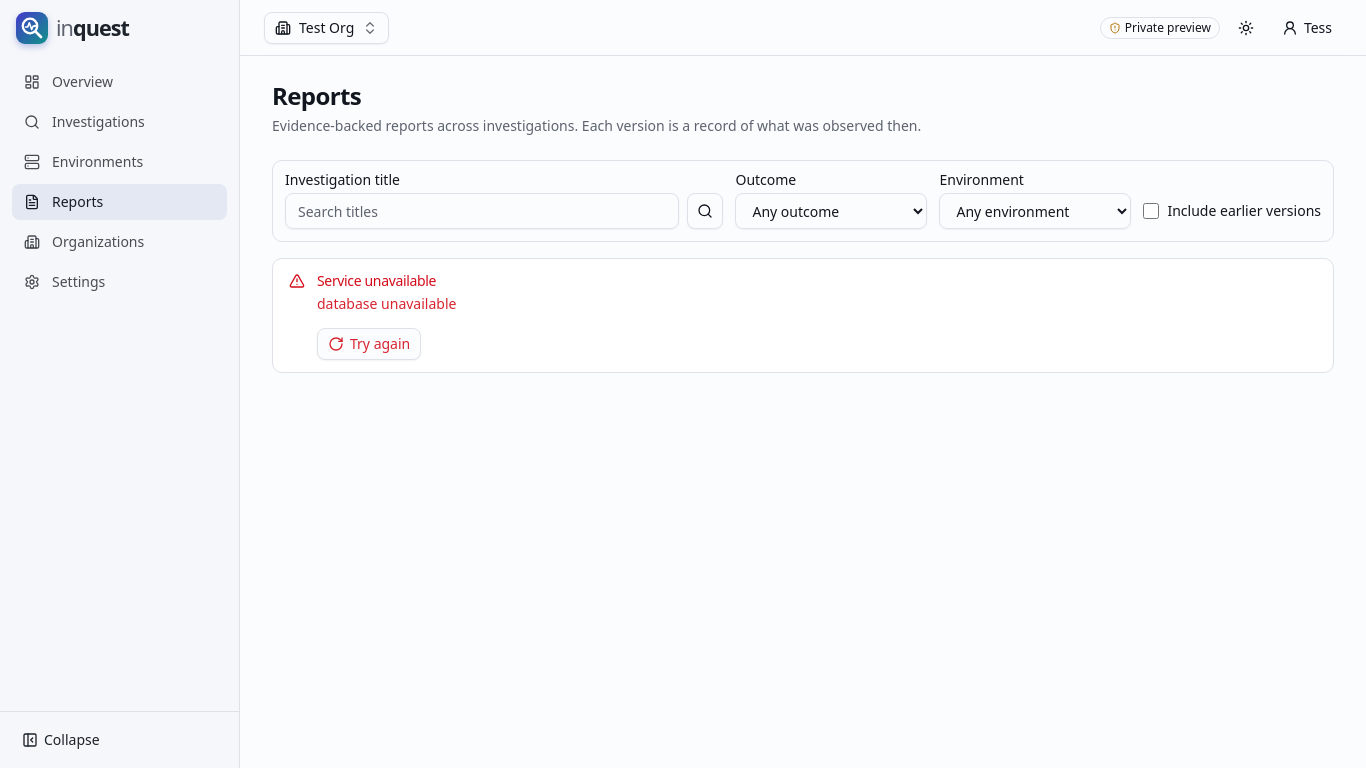
Scenario: reports explorer › retries a failed listing
Click the button "Try again" at point(369, 344), box [317,328,421,360]
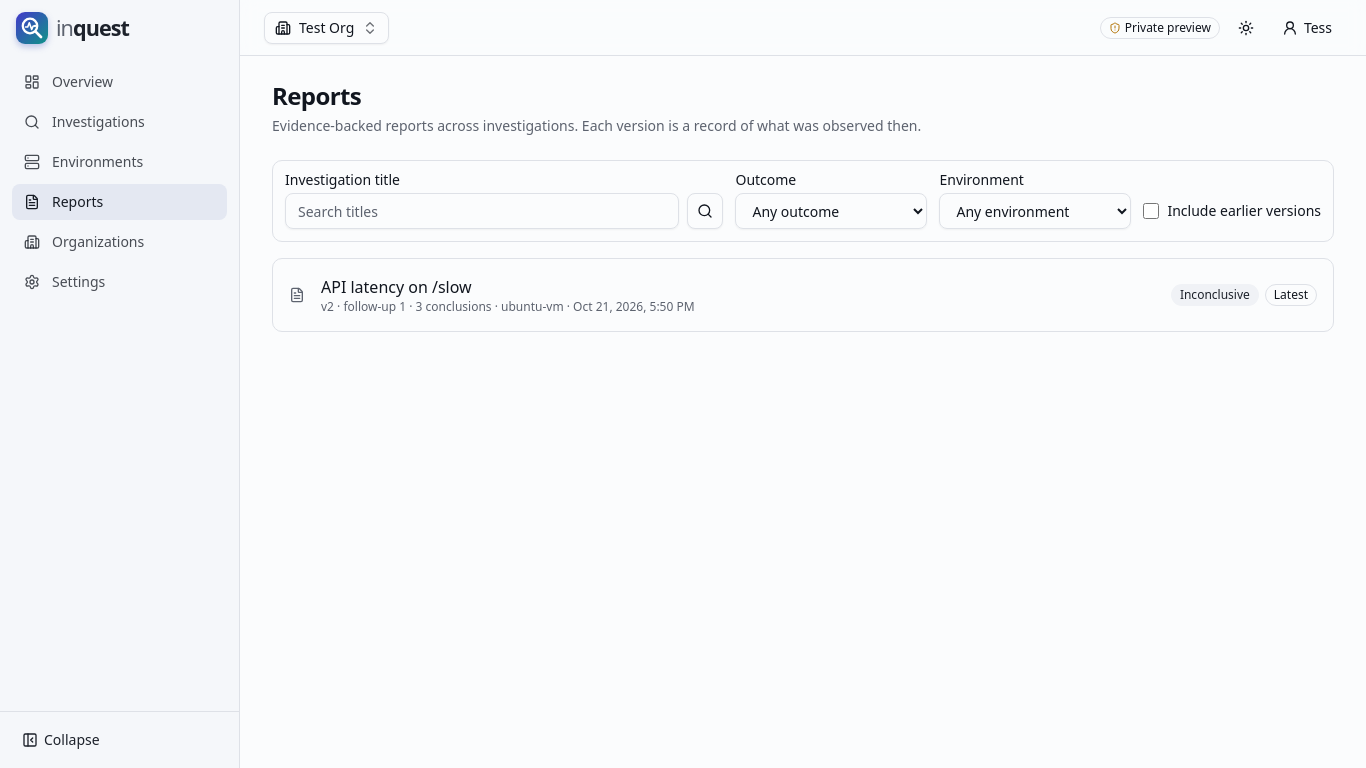
Now the list named "Reports" is shown, box [272,258,1334,332]
